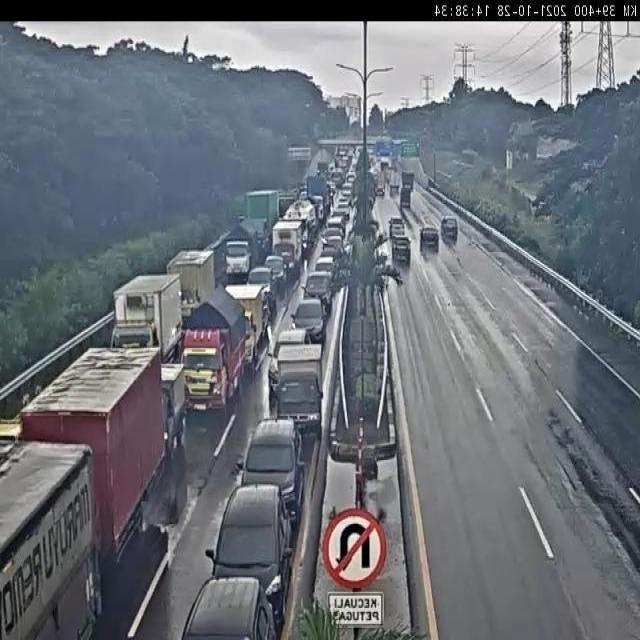Car: (204, 482, 292, 629), (236, 418, 305, 528), (183, 574, 277, 640), (267, 326, 314, 405), (289, 296, 326, 344), (242, 266, 276, 306), (300, 272, 332, 314), (266, 254, 288, 287), (391, 234, 412, 265), (314, 254, 336, 279), (420, 226, 439, 253), (441, 215, 458, 243), (389, 216, 404, 238), (299, 187, 310, 201)
Truck: (19, 343, 164, 566), (0, 440, 100, 640), (179, 288, 246, 414), (111, 273, 184, 364), (273, 343, 326, 441), (166, 250, 218, 330), (224, 282, 264, 370), (161, 361, 188, 455), (222, 214, 259, 280), (243, 189, 280, 253), (271, 218, 307, 282), (283, 197, 317, 254), (306, 173, 332, 224), (278, 191, 299, 222), (400, 170, 416, 190), (388, 168, 400, 192), (375, 170, 386, 196), (400, 187, 411, 208), (316, 160, 329, 177)
